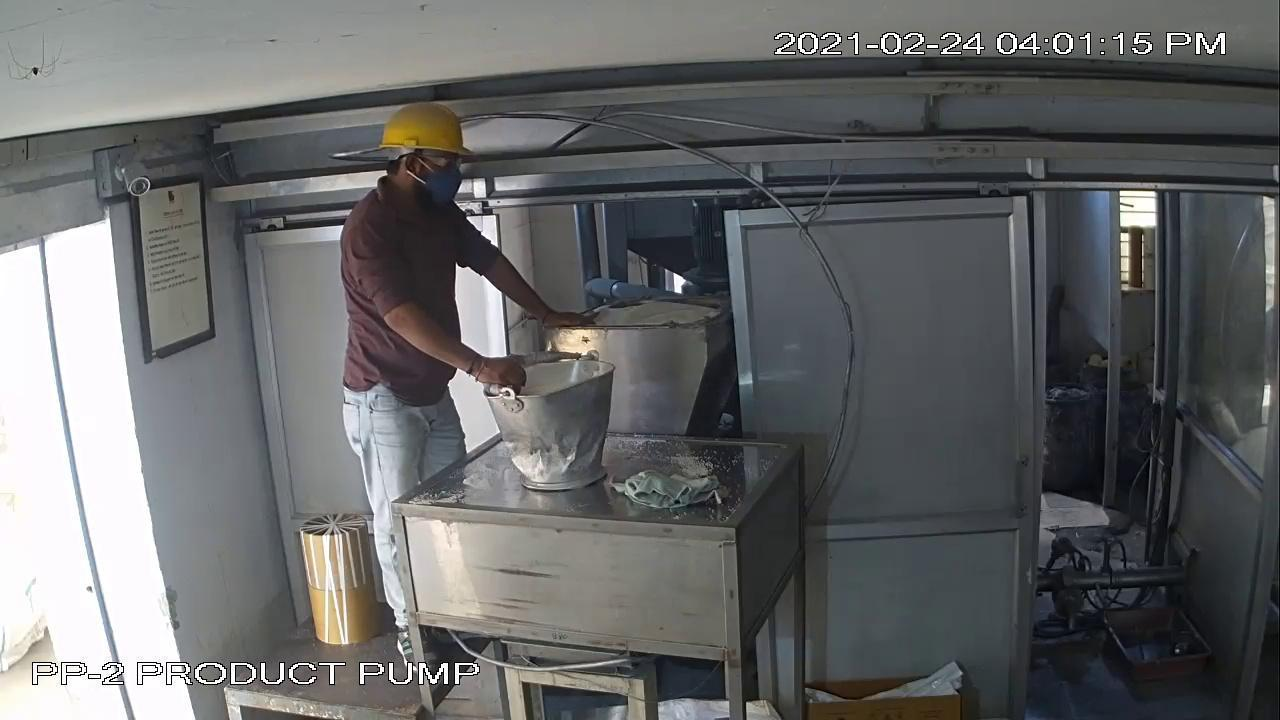helmet: (363, 92, 482, 164)
